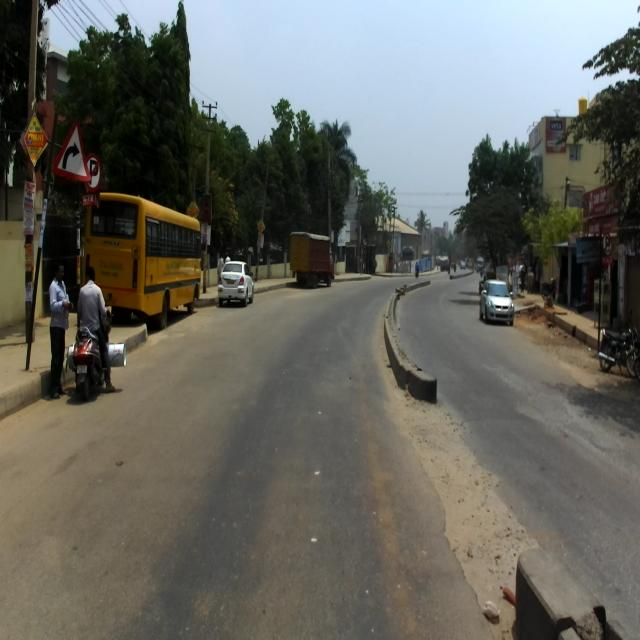bus ahead at: (96, 186, 205, 319)
sign board ahead at: (56, 119, 94, 193)
